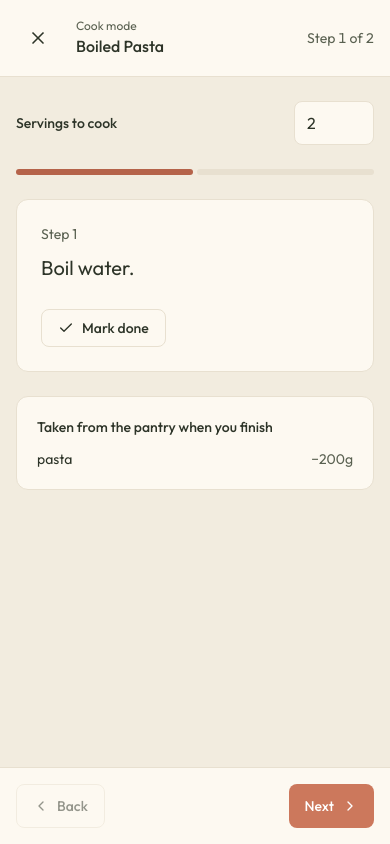
CookMode › navigates between steps (Back disabled at the start)
Check: the button "Back" is disabled, box left=16, top=784, right=105, bottom=828
Click the button "Next". click: (331, 806)
box: left=288, top=784, right=374, bottom=828
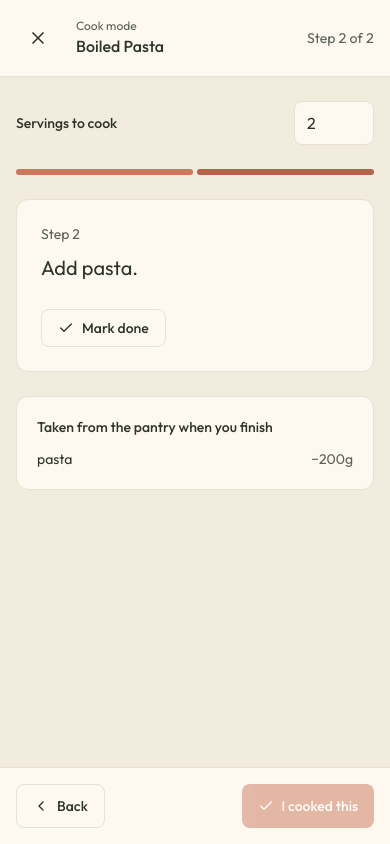
Check: the text "Add pasta." is shown, box left=41, top=255, right=138, bottom=280
Check: the text "Step 2 of 2" is shown, box left=307, top=28, right=374, bottom=48
